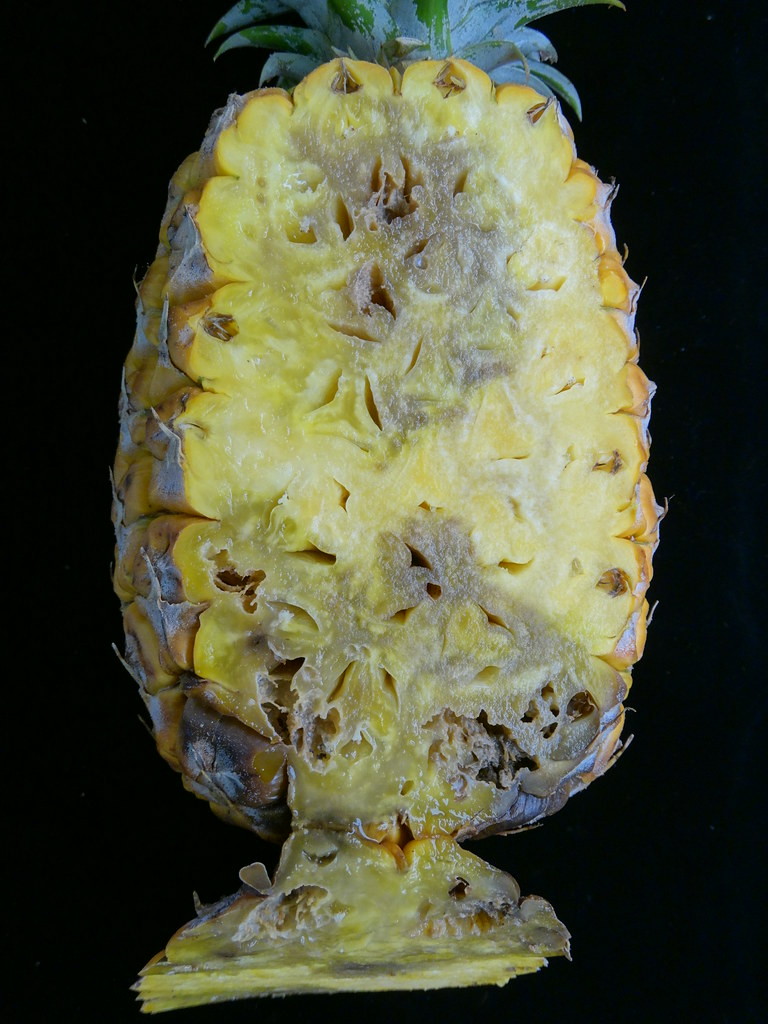damaged_pineapple: (141, 78, 629, 923)
